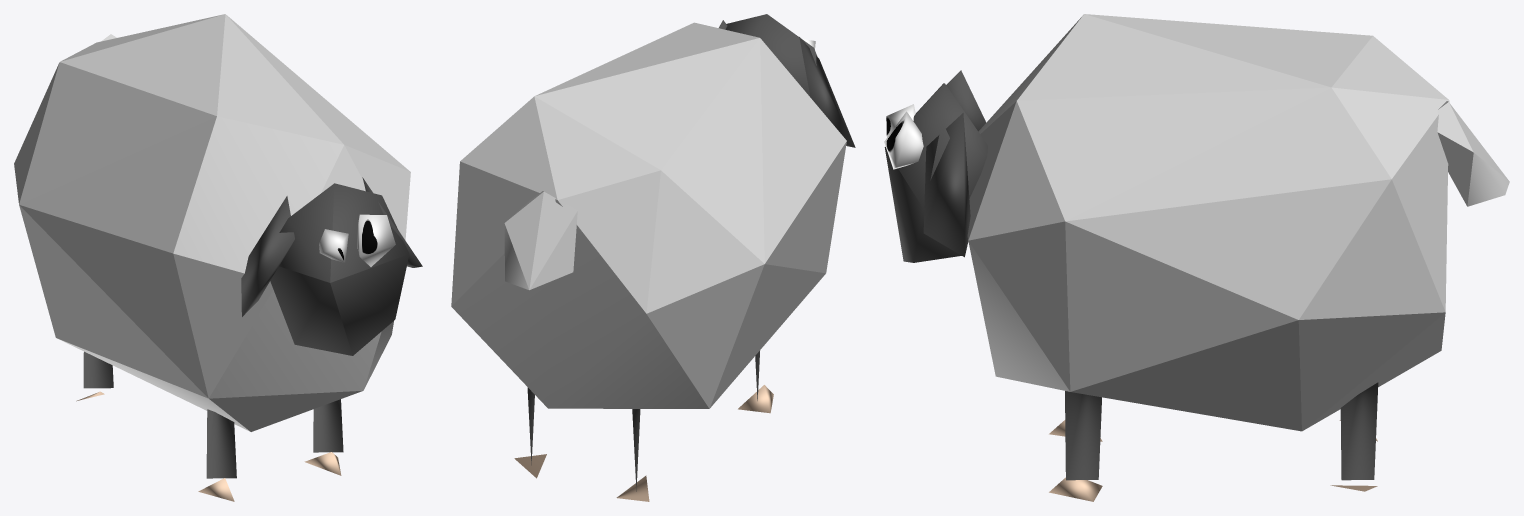
Rendered from sheep_low.fbx.
3 views of the same model, side by side, from view 1: azimuth 30°, elevation 25°; view 2: azimuth 150°, elevation 25°; view 3: azimuth 270°, elevation 25° (orthographic). The views are drawn at different scales.
Parts seen in each view (by area): view 1: sheep-colorable.001, sheep-model.001, sheep-eyeLarge.001, sheep-eyeSmall.001; view 2: sheep-colorable.001, sheep-model.001, sheep-tail.001; view 3: sheep-colorable.001, sheep-model.001, sheep-tail.001, sheep-eyeLarge.001.
Part boxes in pixels (bbox=[...]): sheep-colorable.001: bbox=[14, 14, 410, 431]; sheep-model.001: bbox=[76, 177, 422, 501]; sheep-eyeLarge.001: bbox=[357, 214, 395, 266]; sheep-eyeSmall.001: bbox=[319, 229, 348, 262]; sheep-colorable.001: bbox=[451, 22, 846, 408]; sheep-model.001: bbox=[514, 14, 855, 501]; sheep-tail.001: bbox=[504, 191, 577, 290]; sheep-colorable.001: bbox=[967, 14, 1449, 431]; sheep-model.001: bbox=[884, 70, 1378, 501]; sheep-tail.001: bbox=[1437, 101, 1509, 206]; sheep-eyeLarge.001: bbox=[884, 111, 923, 169].
Bounding box in the file's own units: 87.46 × 101 × 136.
